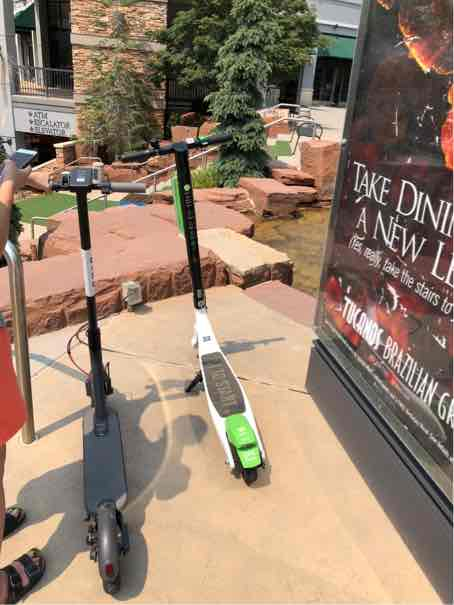scooter: (118, 123, 286, 486)
